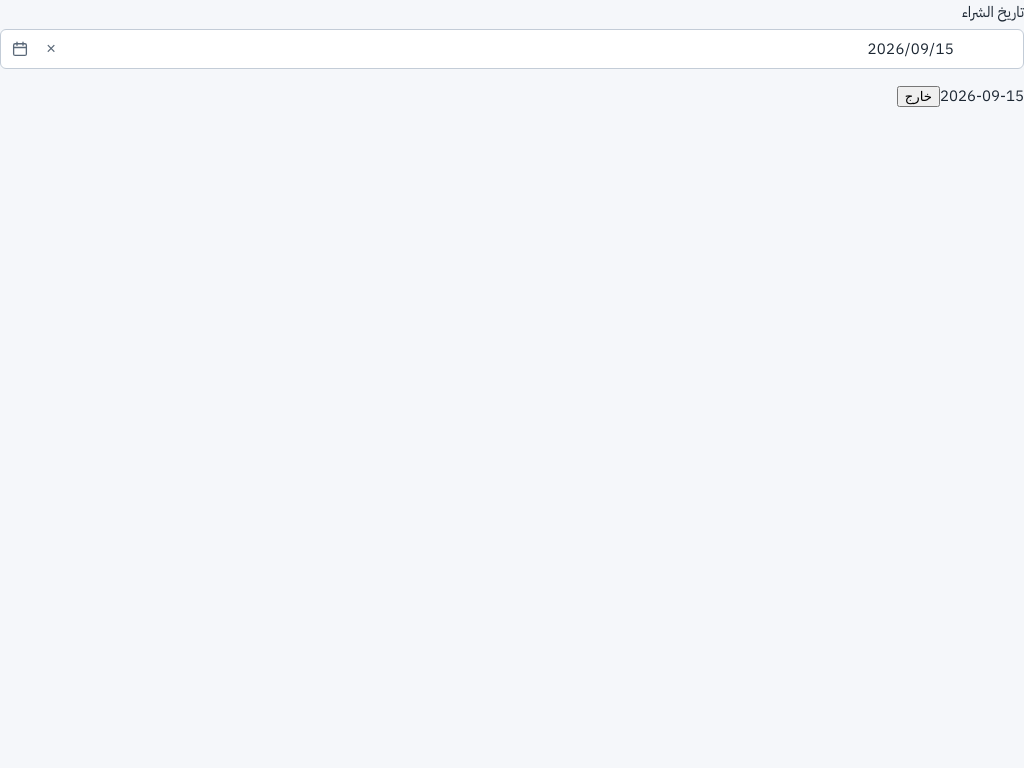
Date field › picks a day from the calendar, with Palestinian month names and a Saturday-first week
Click the button named "فتح التقويم": (20, 48) [4, 34, 34, 64]
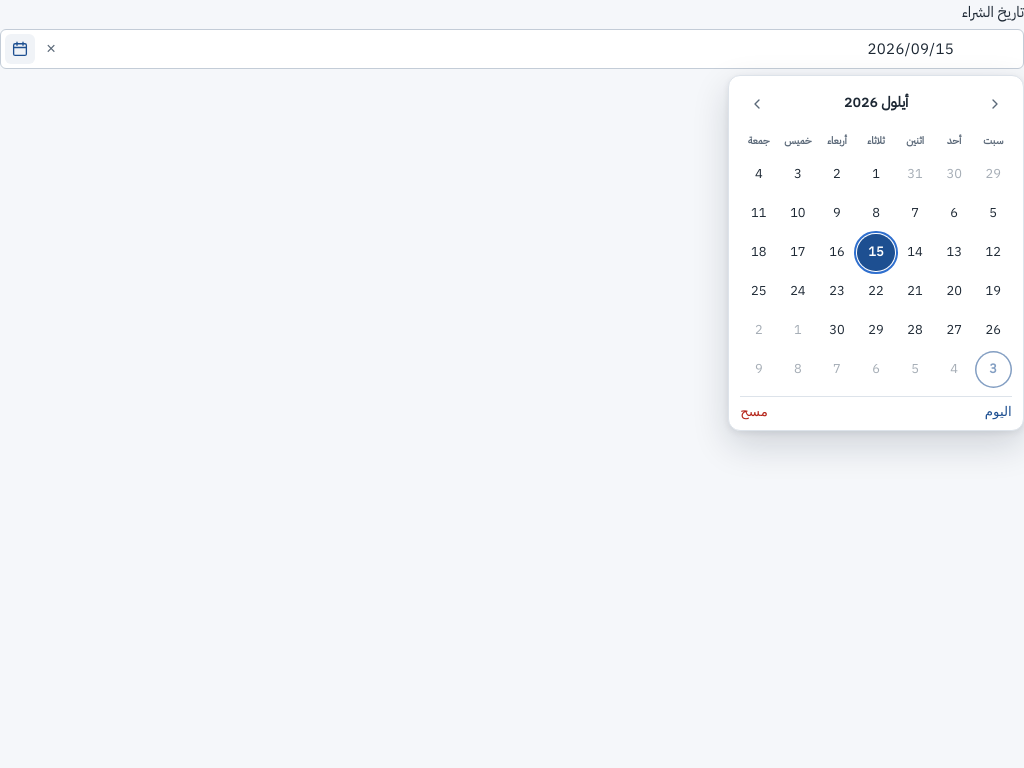
Expected: the button "أيلول 2026" is shown, [778, 87, 974, 121]
Click the button named "الأربعاء 30 أيلول 2026": (837, 330) [818, 312, 856, 349]
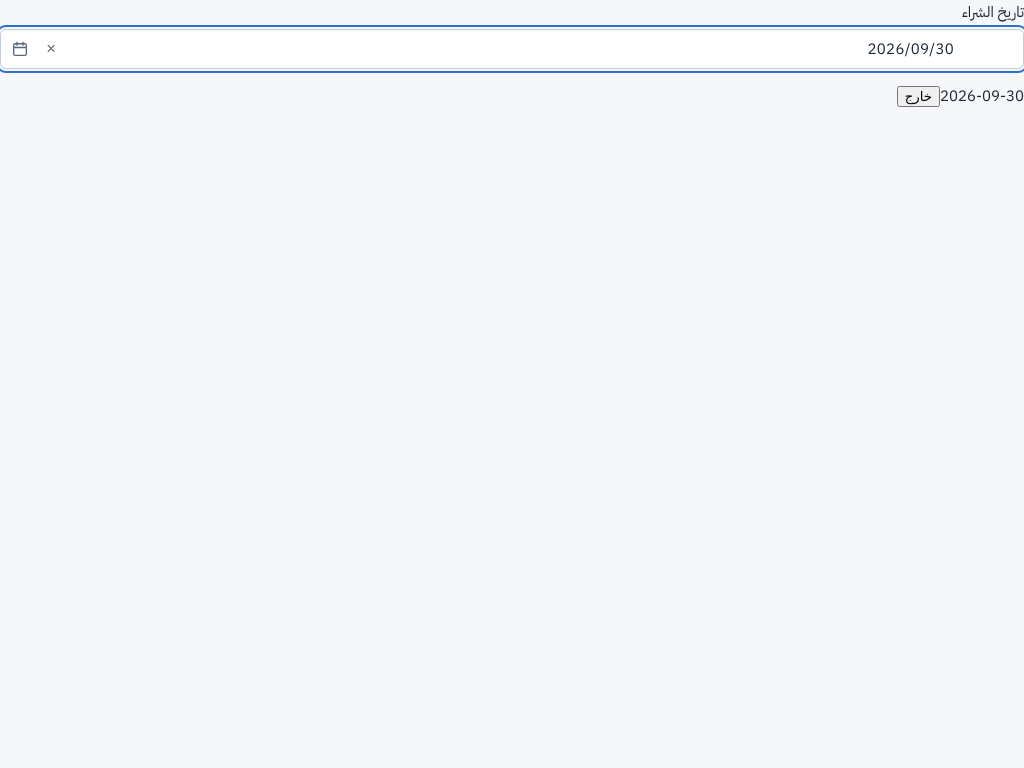
Expected: the text with test id "value" reads "2026-09-30", [940, 84, 1023, 106]
Expected: the dialog is gone
